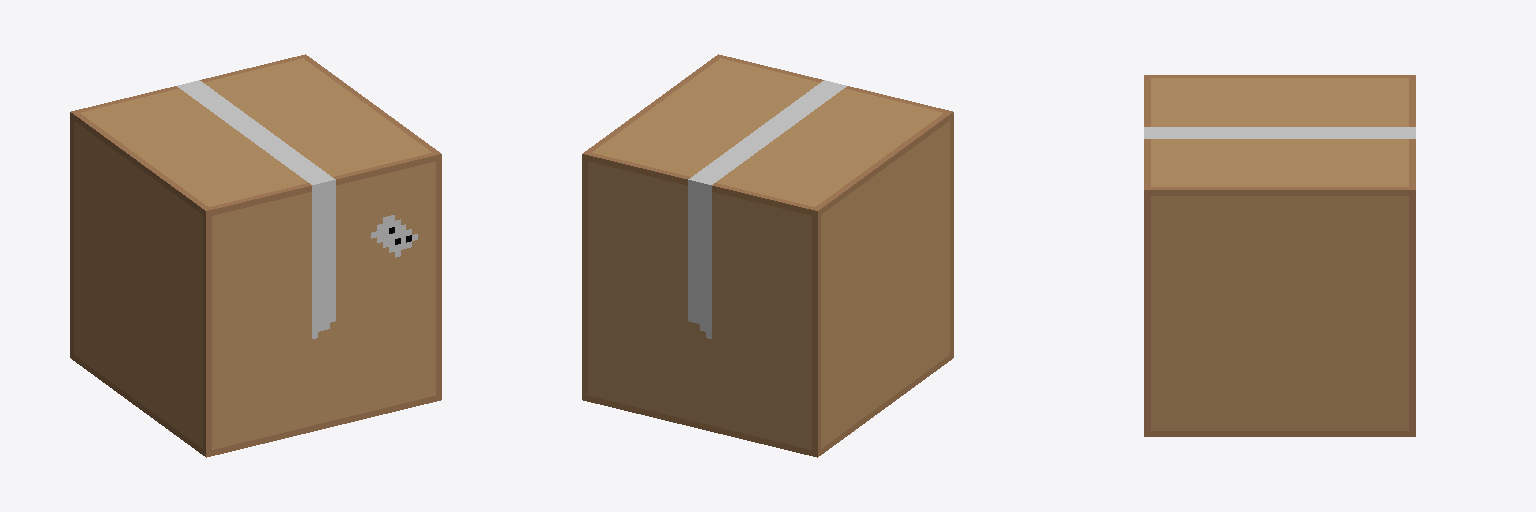
3 renders of one model, left to right at view 1: azimuth 30°, elevation 25°; view 2: azimuth 150°, elevation 25°; view 3: azimuth 270°, elevation 25°, orthographic.
Parts seen in each view (by area): view 1: object 1; view 2: object 1; view 3: object 1.
Boxes of the visible parts, box(x1,y1,x2,y2) form: object 1: box(70, 54, 441, 457); object 1: box(582, 54, 953, 457); object 1: box(1144, 75, 1415, 436).
Bounding box in the file's own units: 4 × 4 × 4.
1 materials, 1 textured.